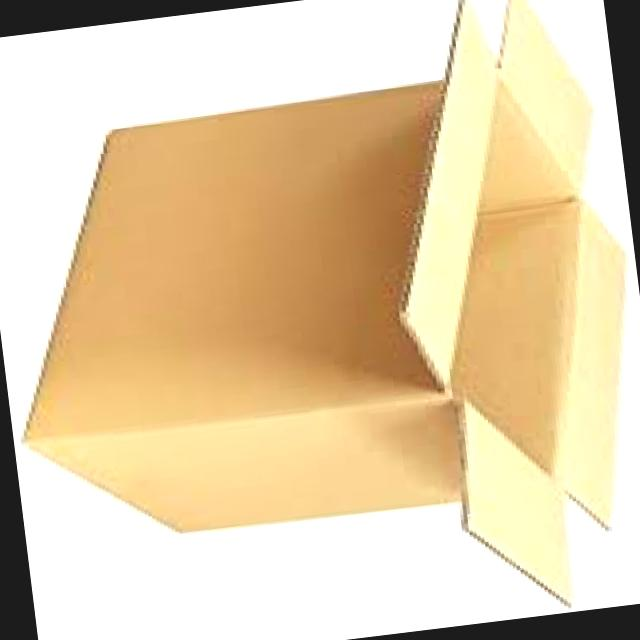cardboard: (27, 0, 625, 601), (400, 0, 498, 388), (460, 404, 571, 603)
